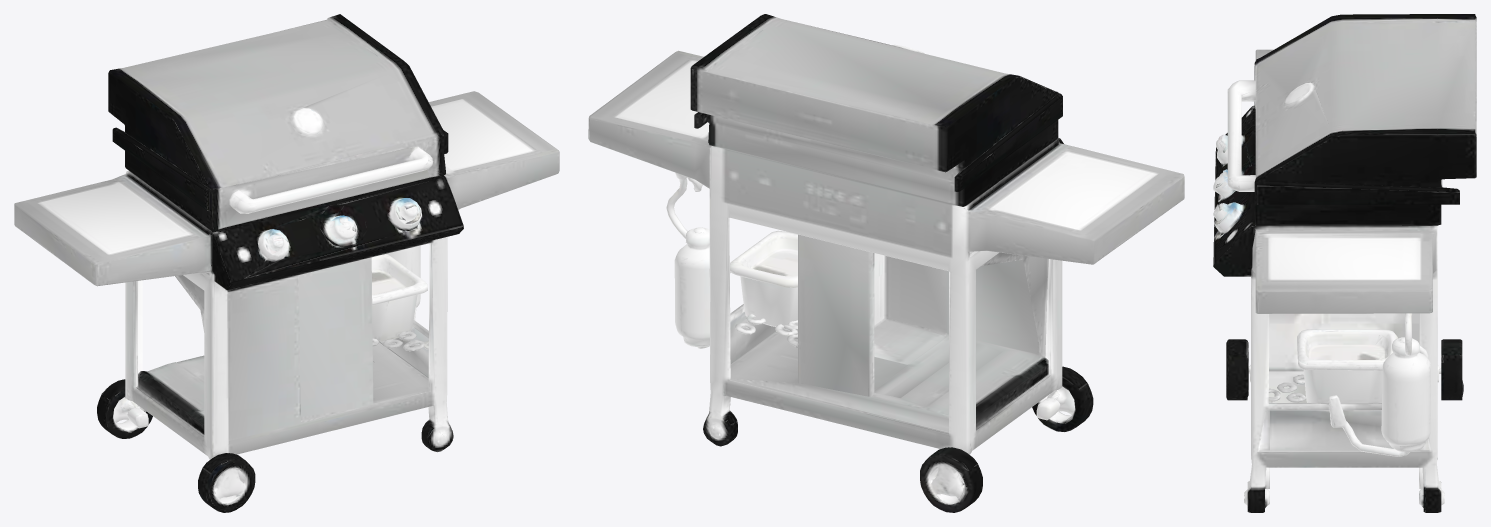
The model's file is grill.glb.
3 renders of one model, left to right at view 1: azimuth 30°, elevation 25°; view 2: azimuth 150°, elevation 25°; view 3: azimuth 270°, elevation 25°, orthographic. The views are drawn at different scales.
Bounding box in the file's own units: 1.91 × 1.41 × 0.8767.
1 material, 1 textured.
